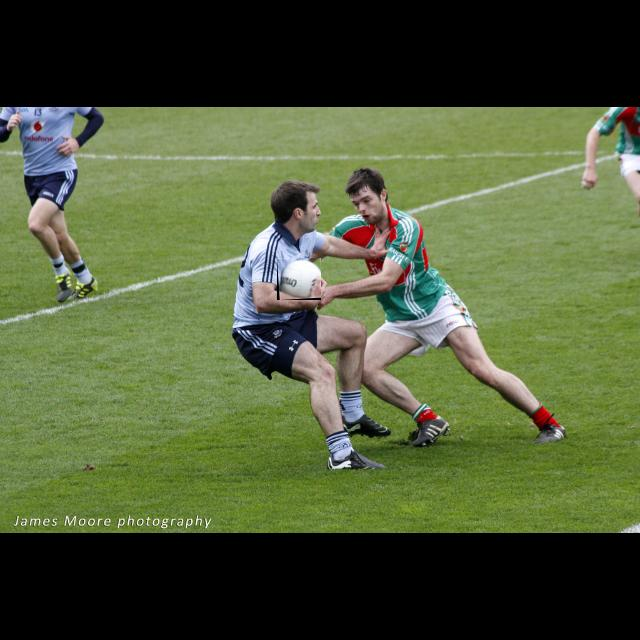Football: (277, 258, 321, 300)
